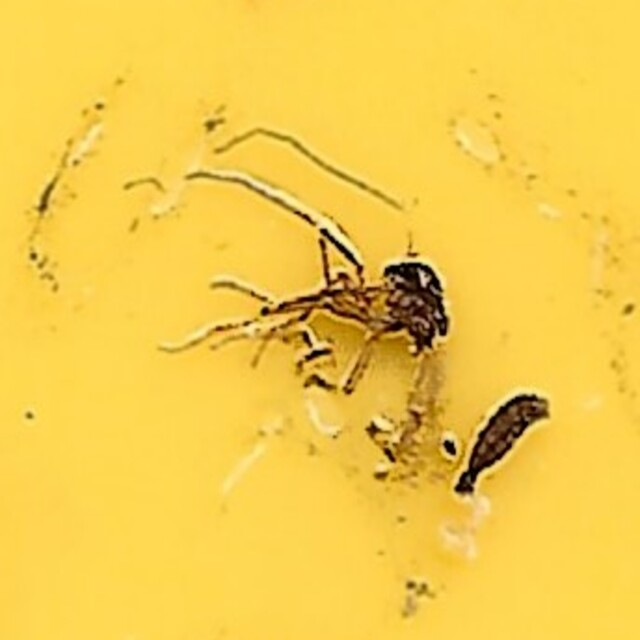Nematocera: (186, 243, 454, 397)
